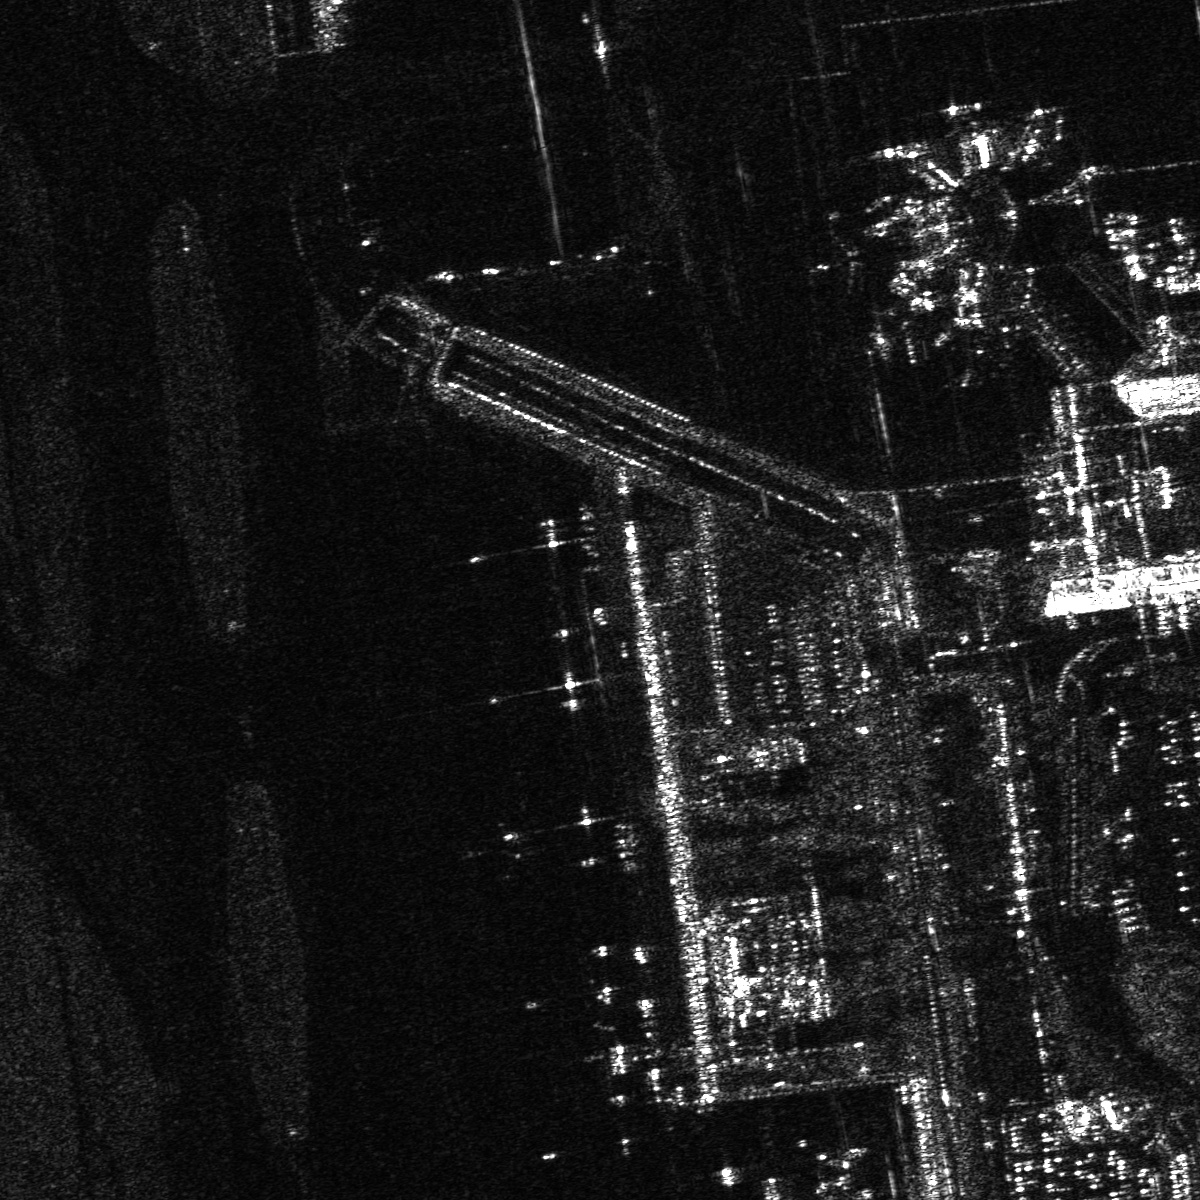A220: (804, 222, 874, 301)
